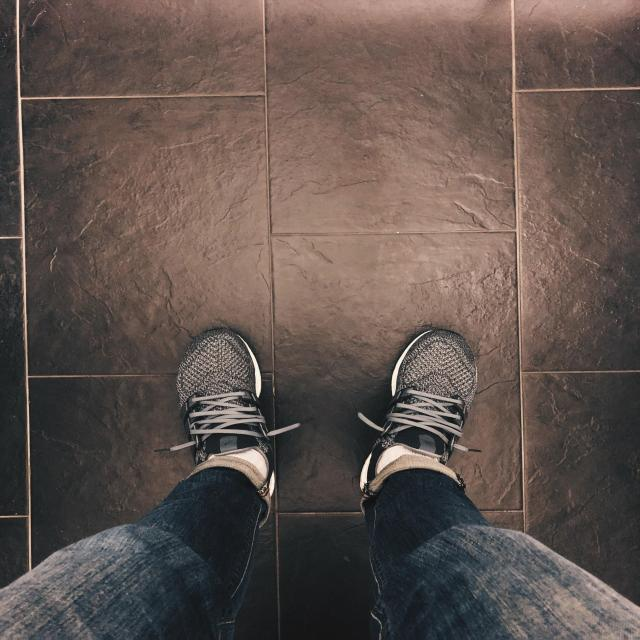shoe: (155, 318, 309, 525), (338, 314, 497, 514)
